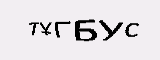Ұ: (38, 20, 53, 38)
